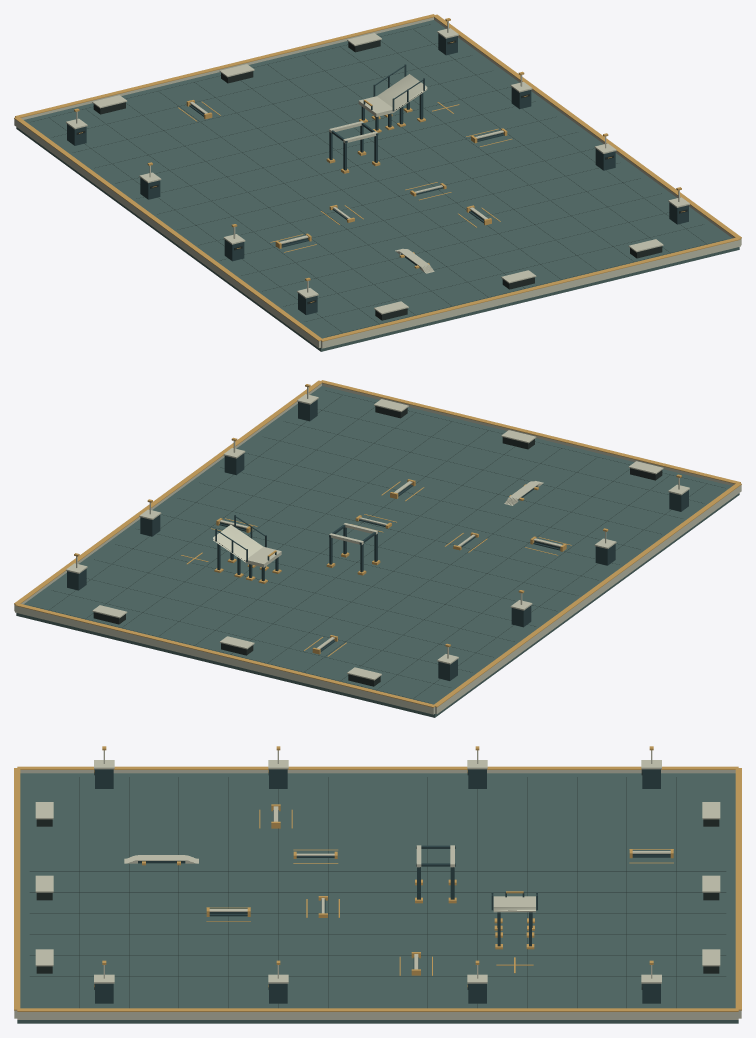
File: court_d0_lod1.glb
3 views of the same model, one above another, from view 1: azimuth 30°, elevation 25°; view 2: azimuth 150°, elevation 25°; view 3: azimuth 270°, elevation 25° (orthographic). The views are drawn at different scales.
Parts seen in each view (by area): view 1: COURT_CONCRETE, COURT_IVORY, COURT_AMBER, COURT_DARK, COURT_STEEL; view 2: COURT_CONCRETE, COURT_IVORY, COURT_AMBER, COURT_DARK, COURT_STEEL; view 3: COURT_CONCRETE, COURT_IVORY, COURT_AMBER, COURT_DARK, COURT_STEEL.
Boxes of the visible parts, x1,y1,x2,y2 form: COURT_CONCRETE: (16, 20, 739, 351); COURT_IVORY: (14, 17, 741, 348); COURT_AMBER: (14, 14, 741, 341); COURT_DARK: (33, 24, 723, 337); COURT_STEEL: (67, 33, 688, 314); COURT_CONCRETE: (16, 386, 739, 717); COURT_IVORY: (14, 383, 741, 714); COURT_AMBER: (14, 380, 741, 707); COURT_DARK: (32, 390, 722, 703); COURT_STEEL: (67, 399, 688, 680); COURT_CONCRETE: (17, 773, 738, 1023); COURT_IVORY: (14, 750, 741, 1019); COURT_AMBER: (14, 746, 741, 1011); COURT_DARK: (30, 769, 725, 1007); COURT_STEEL: (95, 769, 670, 1003).
Bounding box in the file's own units: 23.26 × 2.75 × 29.26.
